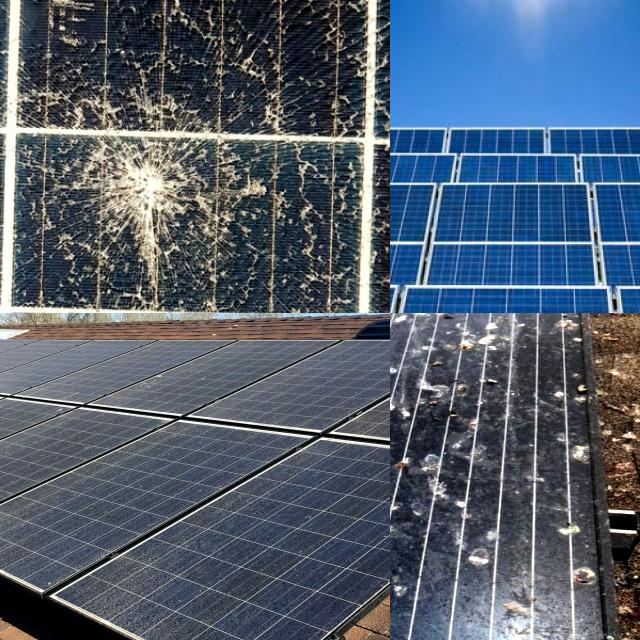bird: (420, 313, 560, 424), (394, 379, 480, 539), (462, 549, 594, 640), (505, 422, 591, 544), (390, 313, 491, 384), (390, 565, 480, 640), (390, 417, 442, 503), (408, 313, 541, 345), (390, 448, 428, 552), (390, 313, 439, 385), (390, 313, 432, 344)
crack: (422, 180, 620, 300), (390, 181, 509, 313), (571, 174, 640, 306)
dust: (146, 544, 327, 636), (0, 464, 139, 541), (298, 444, 390, 532), (0, 403, 55, 461), (82, 576, 144, 619)
hotspot: (52, 125, 251, 289)
